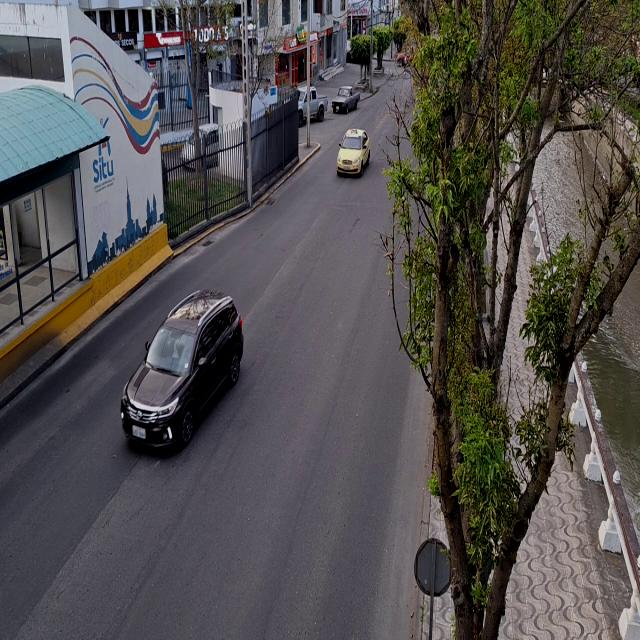CMT: (299, 86, 328, 121), (332, 86, 360, 114)
SED: (336, 127, 371, 178)
SUV: (119, 287, 245, 450)
